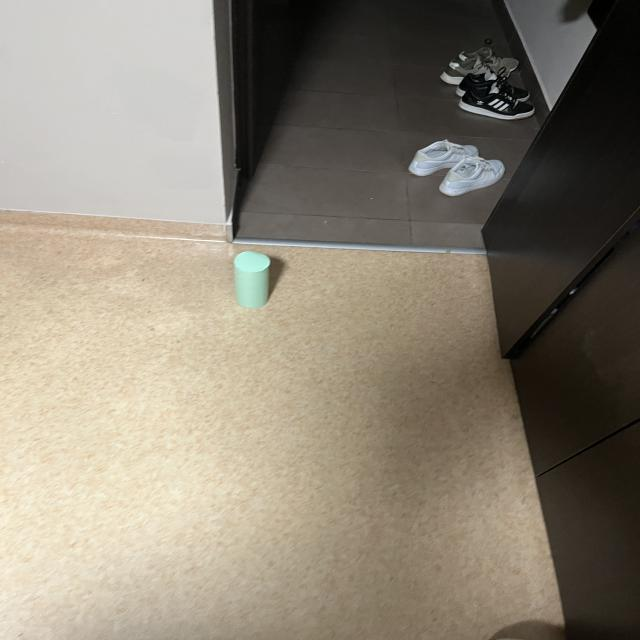meta: (234, 251, 270, 308)
